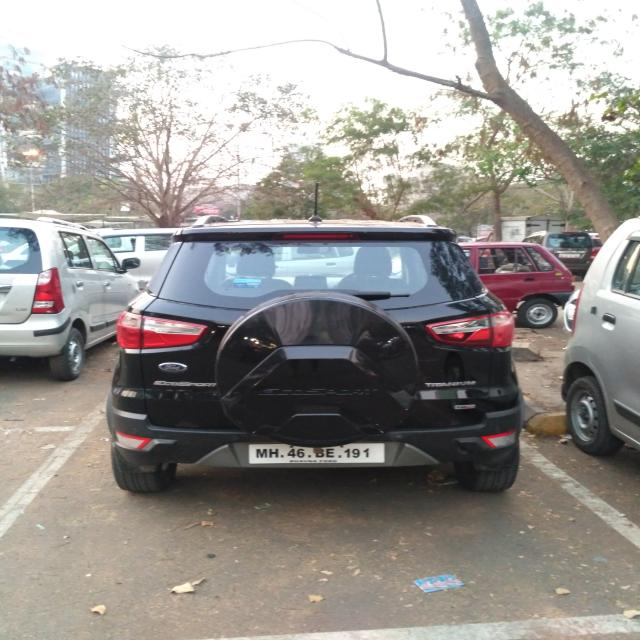Number-Plate: (254, 444, 382, 464)
